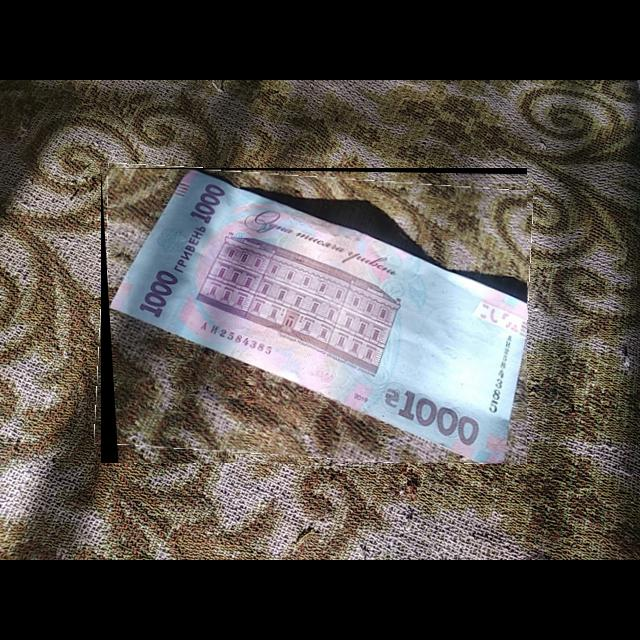1000uah: (108, 169, 528, 464)
